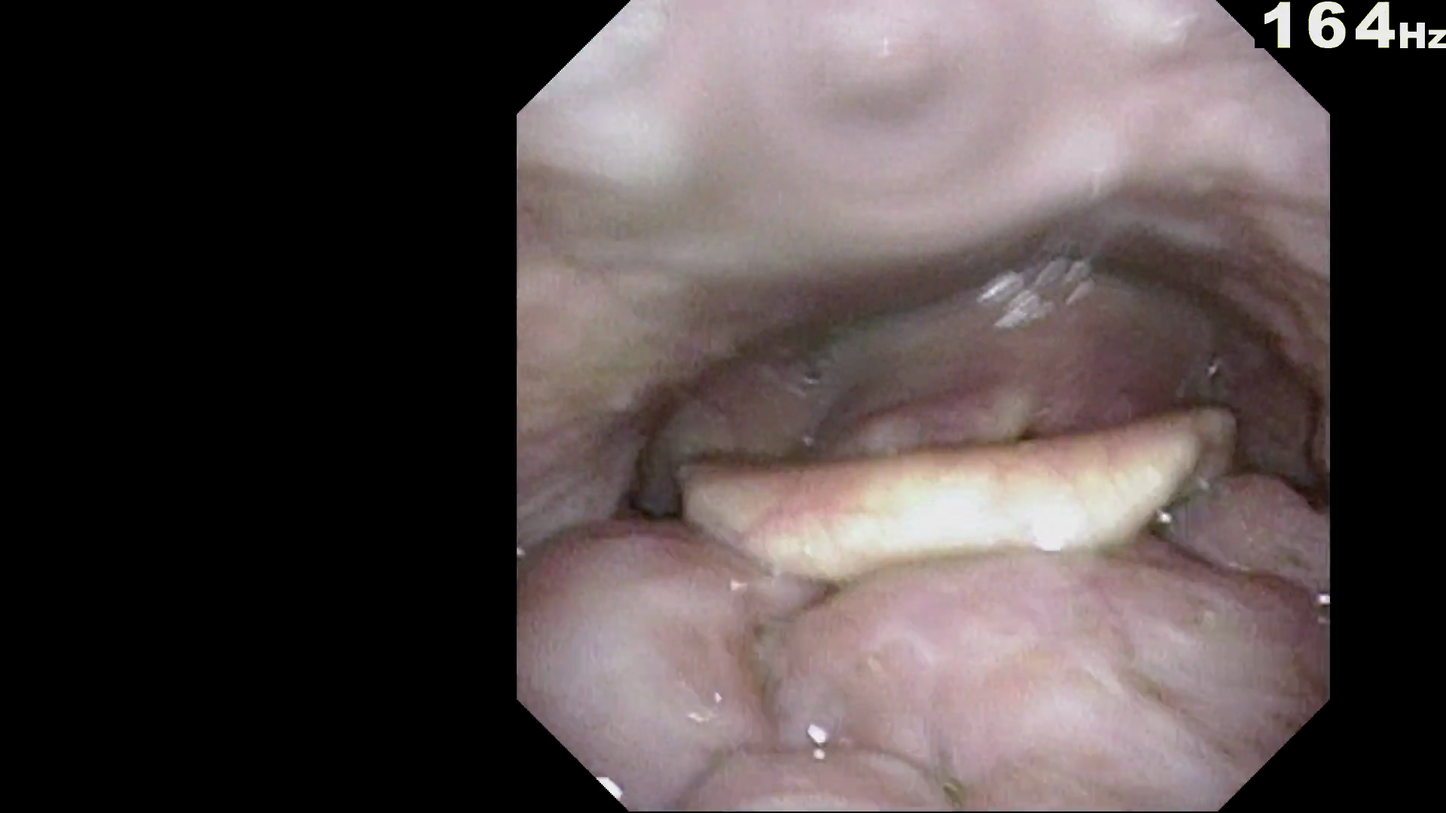epiglottis: (691, 423, 1175, 566)
